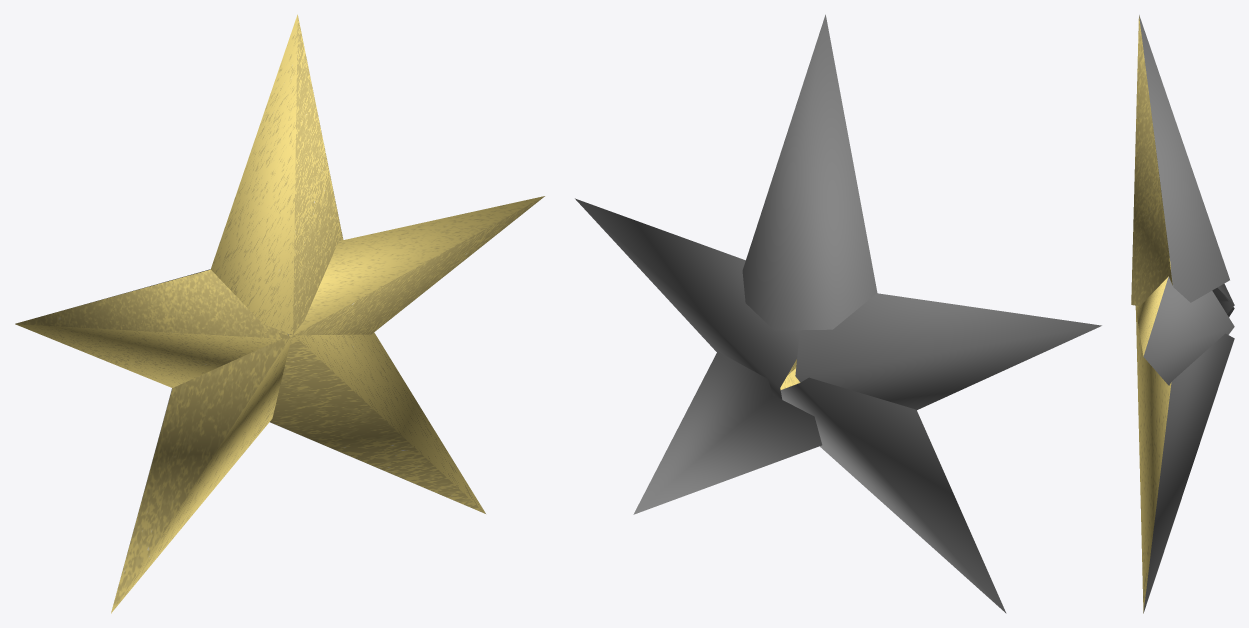
Rendered from star.obj.
The picture shows the model from 3 angles, left to right: view 1: azimuth 30°, elevation 25°; view 2: azimuth 150°, elevation 25°; view 3: azimuth 270°, elevation 25°; orthographic projection. The views are drawn at different scales.
Parts seen in each view (by area): view 1: pCone11; view 2: pCone11; view 3: pCone11.
Boxes of the visible parts, x1,y1,x2,y2 form: pCone11: [15, 14, 544, 613]; pCone11: [575, 14, 1101, 613]; pCone11: [1131, 15, 1234, 613].
Bounding box in the file's own units: 2.97 × 2.98 × 0.5366.
Materials: 3 (2 with a texture image).
